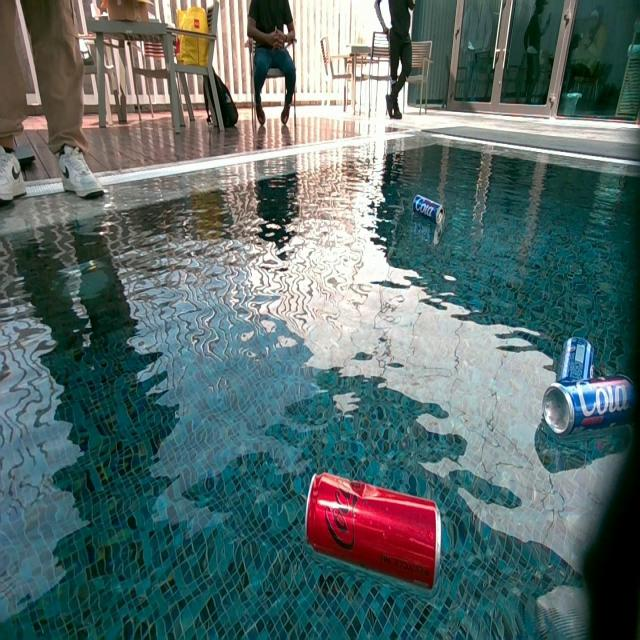Cans: (300, 471, 439, 594), (543, 375, 637, 436), (556, 336, 602, 379), (412, 195, 446, 226)
